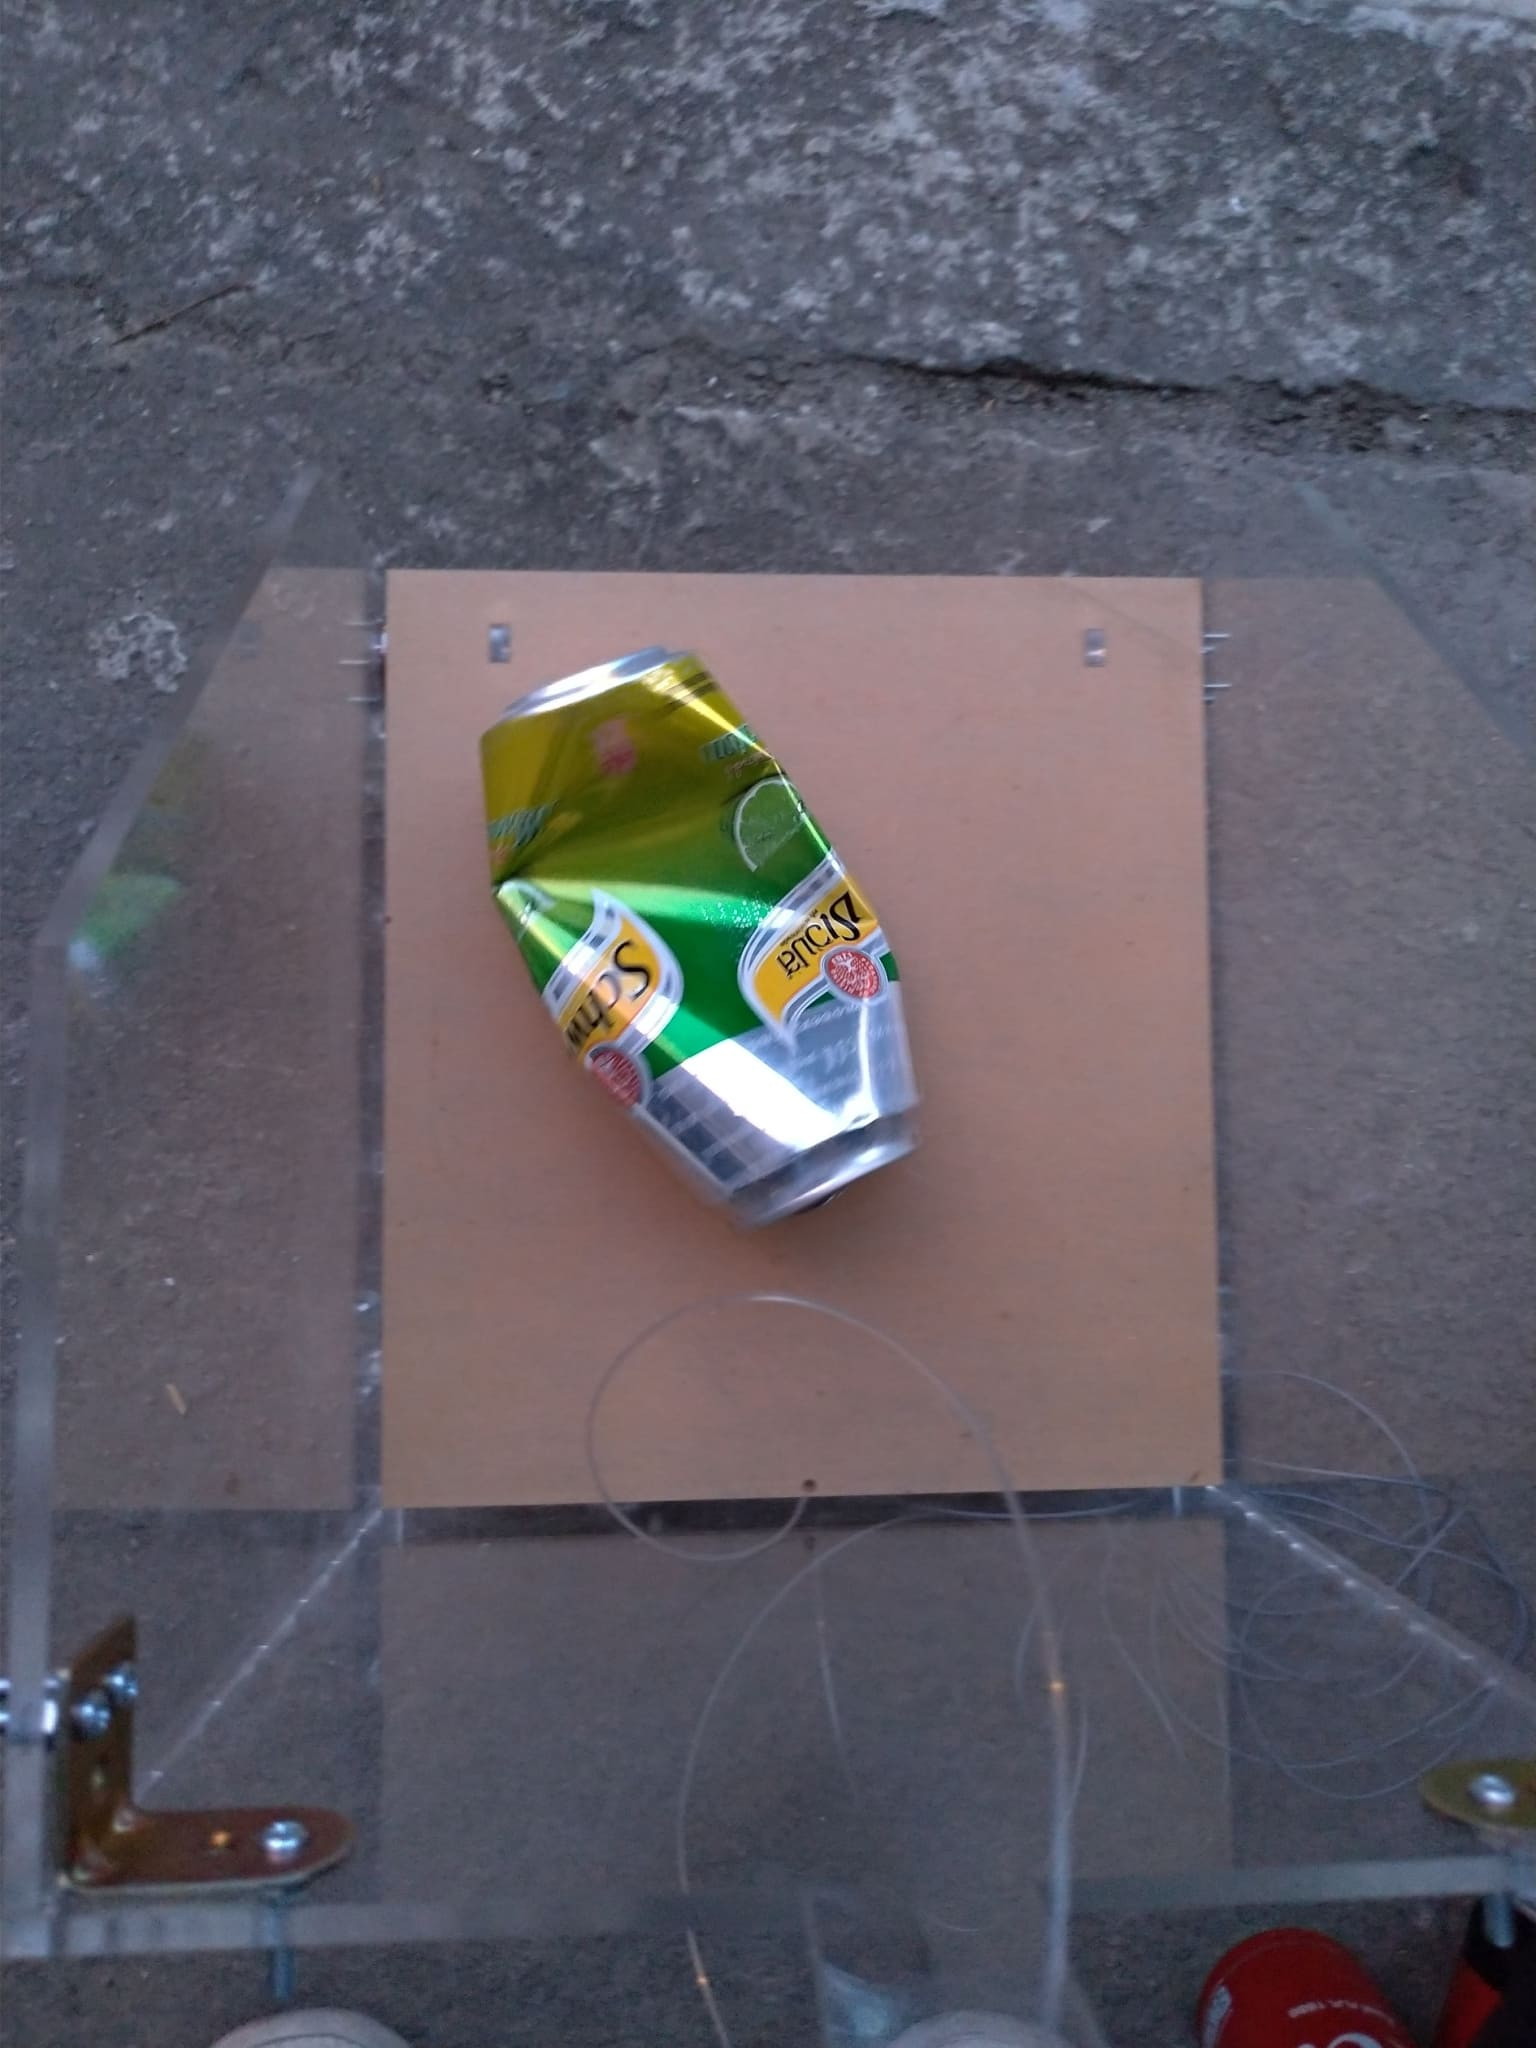AlCan: (487, 648, 920, 1229), (1187, 1935, 1405, 2048)
